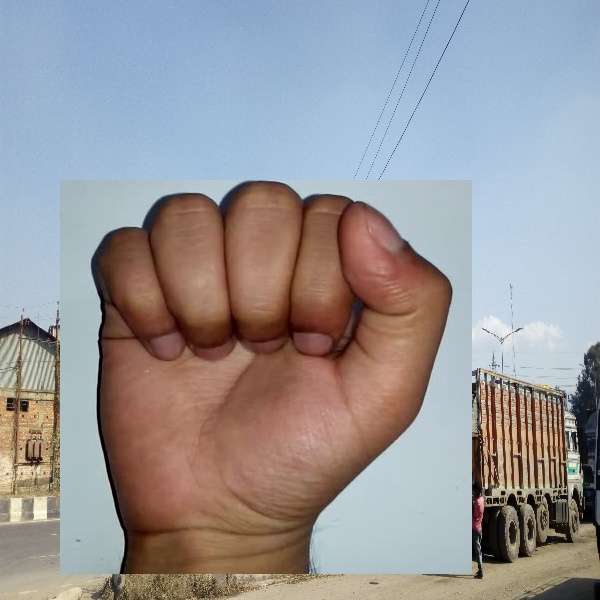A: (60, 180, 472, 574)
